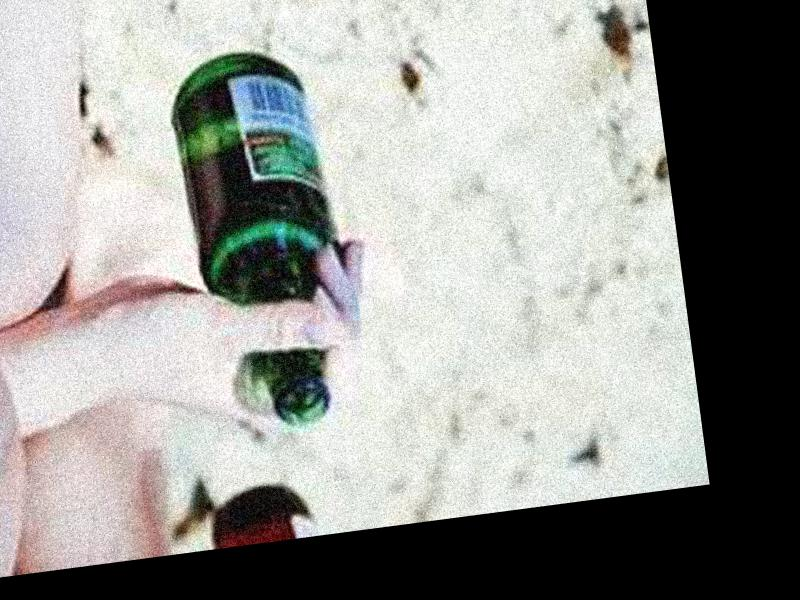Beer: (162, 43, 358, 440)
